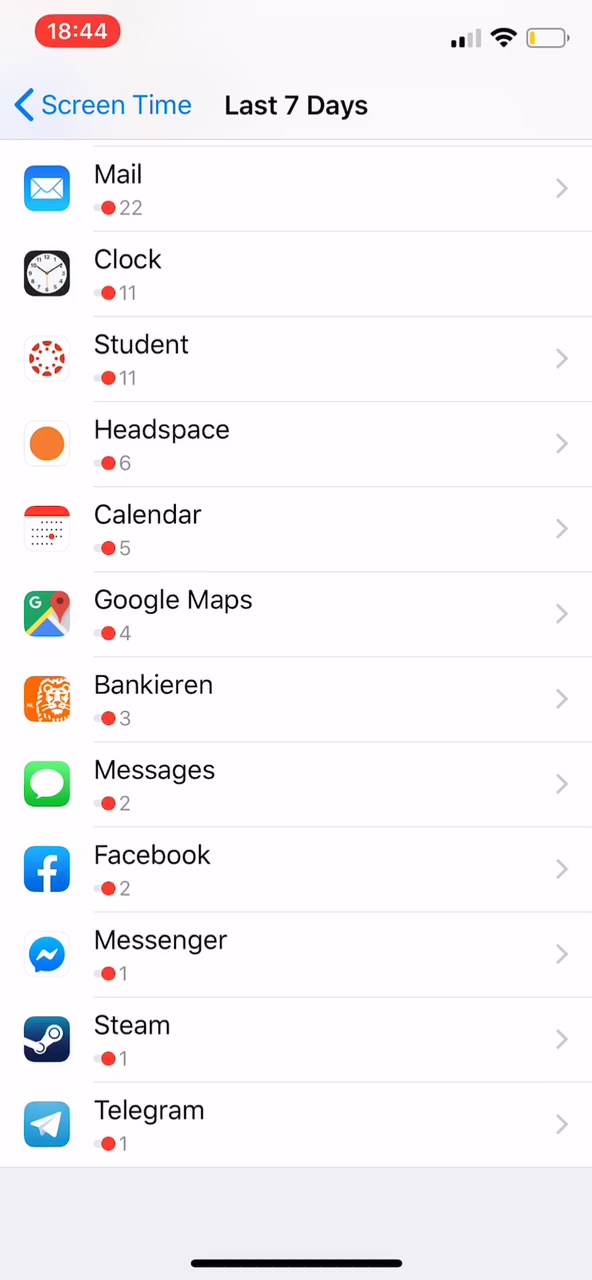not_app: (14, 581, 280, 658), (15, 405, 253, 488), (14, 660, 233, 742), (14, 491, 227, 574), (14, 748, 229, 828), (14, 921, 245, 995), (17, 834, 233, 913), (15, 1089, 225, 1161), (17, 324, 209, 402), (17, 1007, 204, 1086), (15, 238, 184, 322), (11, 152, 186, 230)
week: (209, 87, 382, 120)
